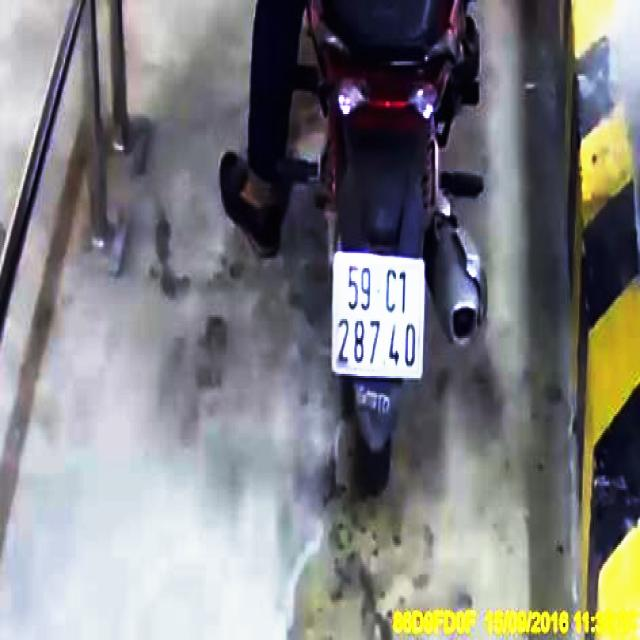license_plate: (335, 257, 424, 378)
